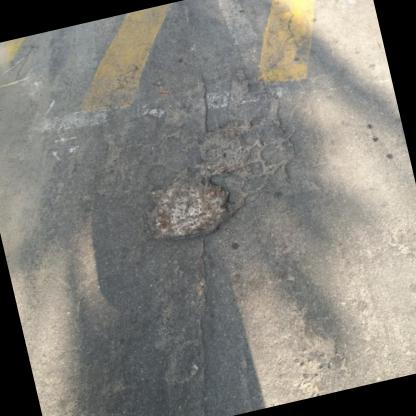pothole: (134, 165, 242, 251), (189, 116, 259, 180)
